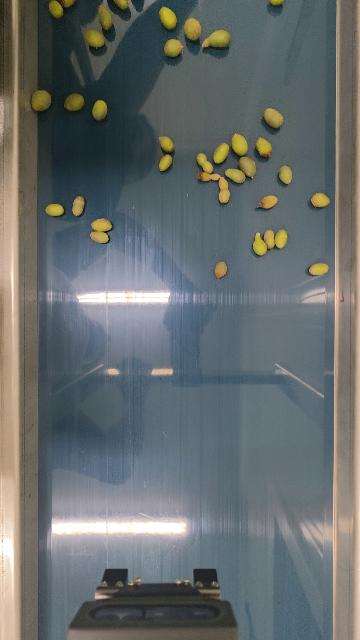Baby Potato: (201, 28, 232, 50), (97, 1, 115, 31), (30, 88, 52, 112), (158, 6, 178, 31), (183, 16, 202, 42), (263, 107, 285, 129), (83, 28, 107, 48), (64, 92, 86, 112), (231, 132, 250, 155), (238, 155, 257, 178), (163, 38, 184, 58), (217, 175, 231, 204), (224, 167, 247, 184), (91, 99, 108, 122), (196, 152, 214, 173), (213, 142, 230, 164), (256, 136, 273, 158), (257, 194, 279, 210), (308, 261, 330, 277), (90, 217, 112, 233), (252, 231, 266, 256), (71, 195, 86, 216), (158, 135, 175, 153), (48, 0, 64, 19), (311, 192, 330, 208), (279, 165, 294, 185), (274, 228, 288, 249), (263, 228, 276, 250), (158, 153, 173, 172), (90, 230, 110, 244), (45, 203, 64, 217), (197, 171, 221, 182), (214, 261, 228, 278), (112, 0, 132, 11), (60, 0, 76, 7), (270, 0, 285, 5)
